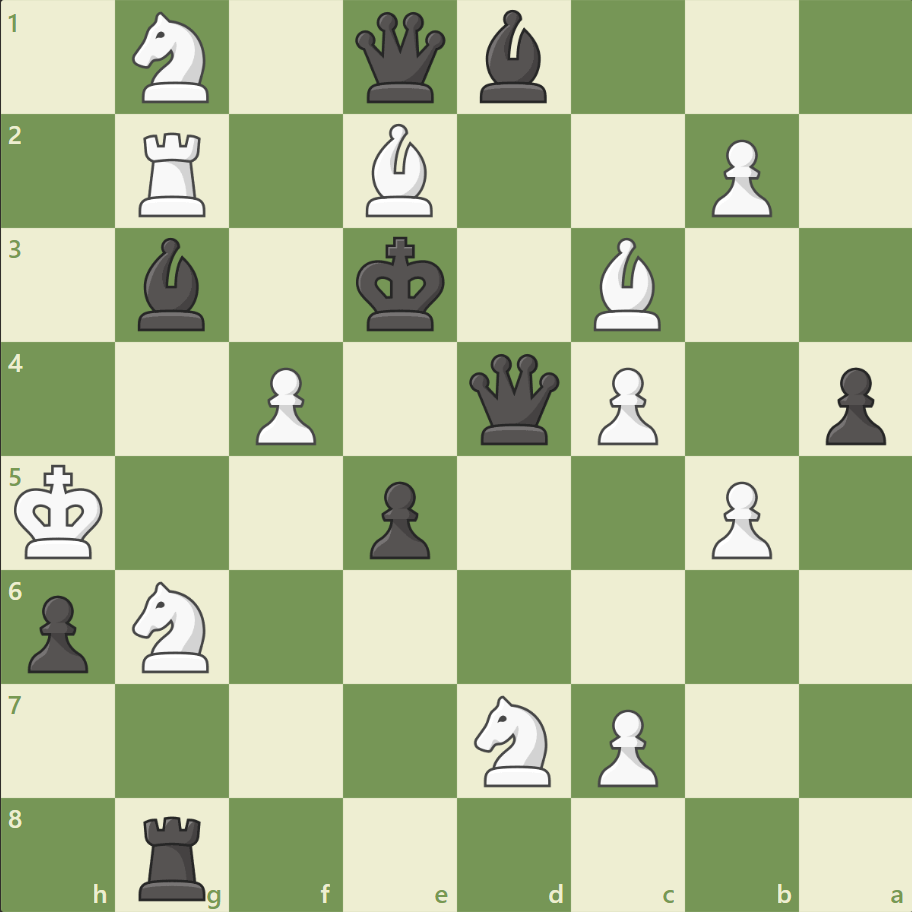B: (585, 233, 669, 336), (358, 120, 442, 222)
K: (11, 458, 111, 566)
N: (124, 7, 222, 110), (124, 575, 222, 677), (465, 688, 562, 791)
P: (701, 473, 776, 564), (247, 359, 322, 450), (701, 132, 776, 223), (588, 700, 662, 791), (588, 359, 662, 450)
R: (133, 125, 215, 222)
b: (131, 233, 215, 336), (471, 6, 555, 109)
k: (351, 231, 451, 339)
p: (20, 586, 95, 677), (361, 473, 435, 564), (815, 359, 889, 450)
q: (464, 349, 563, 449), (351, 9, 450, 108)
r: (133, 806, 215, 904)
